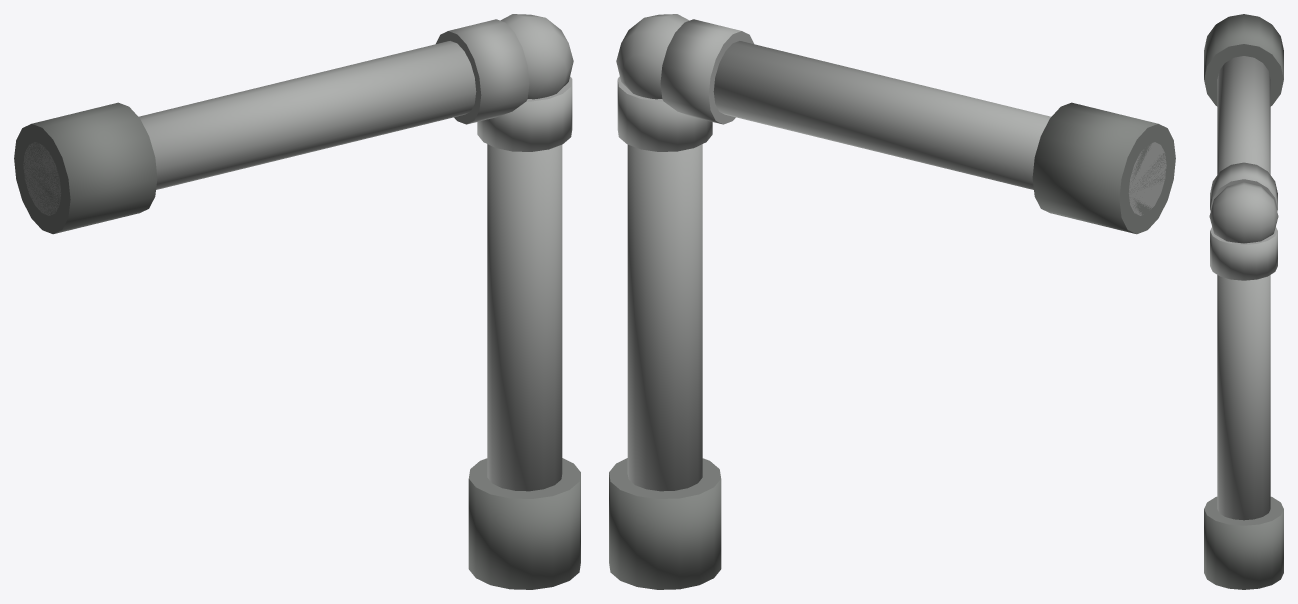
File: pipe_m09_x9.obj
3 views of the same model, side by side, from view 1: azimuth 30°, elevation 25°; view 2: azimuth 150°, elevation 25°; view 3: azimuth 270°, elevation 25° (orthographic). The views are drawn at different scales.
Parts seen in each view (by area): view 1: pipe8, pipe1, sleeve8, sleeve1, fitting_socket8, fitting_socket1, fitting_hub; view 2: pipe8, pipe1, sleeve8, sleeve1, fitting_socket8, fitting_socket1, fitting_hub; view 3: pipe1, sleeve1, pipe8, sleeve8, fitting_hub, fitting_socket1, fitting_socket8.
Part boxes in pixels (<box>): pipe8: <box>23,41,476,215</box>; pipe1: <box>487,144,562,491</box>; sleeve8: <box>14,102,157,234</box>; sleeve1: <box>468,458,580,589</box>; fitting_socket8: <box>436,19,529,124</box>; fitting_socket1: <box>477,76,572,151</box>; fitting_hub: <box>500,14,573,99</box>; pipe8: <box>713,41,1166,215</box>; pipe1: <box>627,144,702,491</box>; sleeve8: <box>1032,102,1175,234</box>; sleeve1: <box>609,458,721,589</box>; fitting_socket8: <box>660,19,753,124</box>; fitting_socket1: <box>617,76,712,151</box>; fitting_hub: <box>616,14,689,99</box>; pipe1: <box>1217,275,1270,520</box>; sleeve1: <box>1204,496,1283,589</box>; pipe8: <box>1217,56,1270,174</box>; sleeve8: <box>1204,14,1283,106</box>; fitting_hub: <box>1209,182,1278,243</box>; fitting_socket1: <box>1210,227,1277,280</box>; fitting_socket8: <box>1210,162,1277,211</box>.
Size of the model in its own units: 0.5507 by 0.5507 by 0.1014.
Materials: 2 (2 with a texture image).
